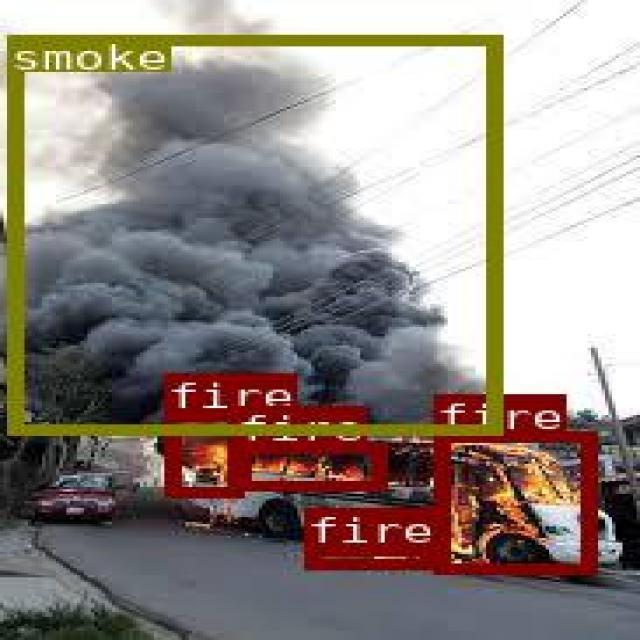fire: (434, 431, 591, 573), (162, 409, 240, 495), (233, 443, 383, 487), (303, 544, 431, 566)
smoke: (4, 33, 500, 432)
